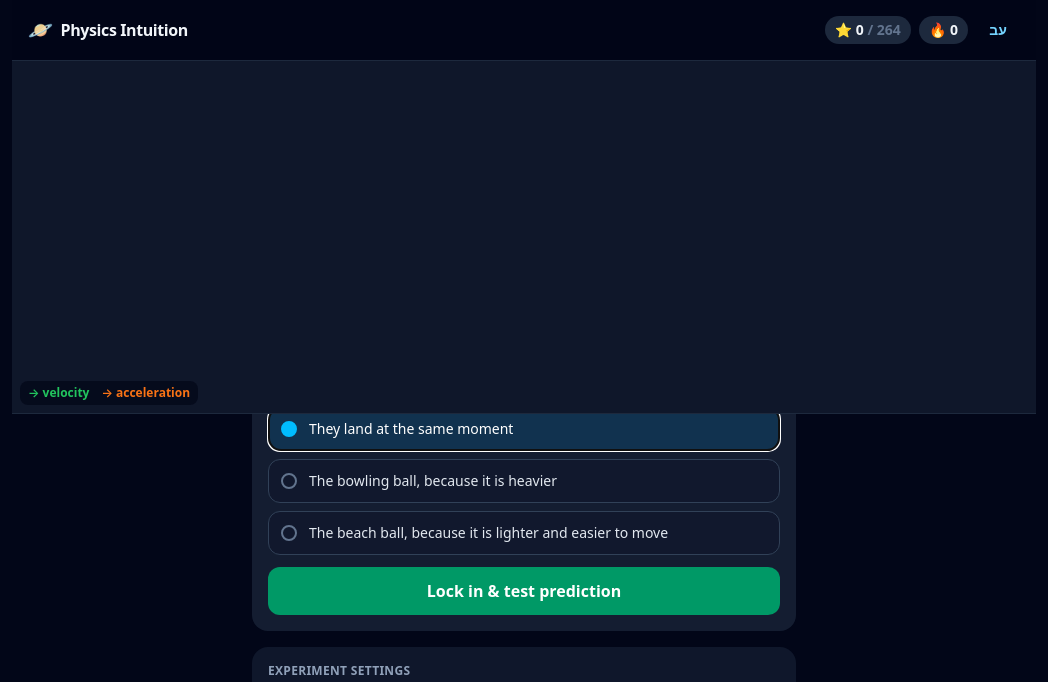
every Topic 1 question › heavy-vs-light: every part can be answered correctly through the UI
The image size is (1048, 682).
Earlier steps of the test are not shown.
(page scrolled)
Step 1. Click the button "Lock in & test prediction" → [524, 591], box [268,567,780,615]
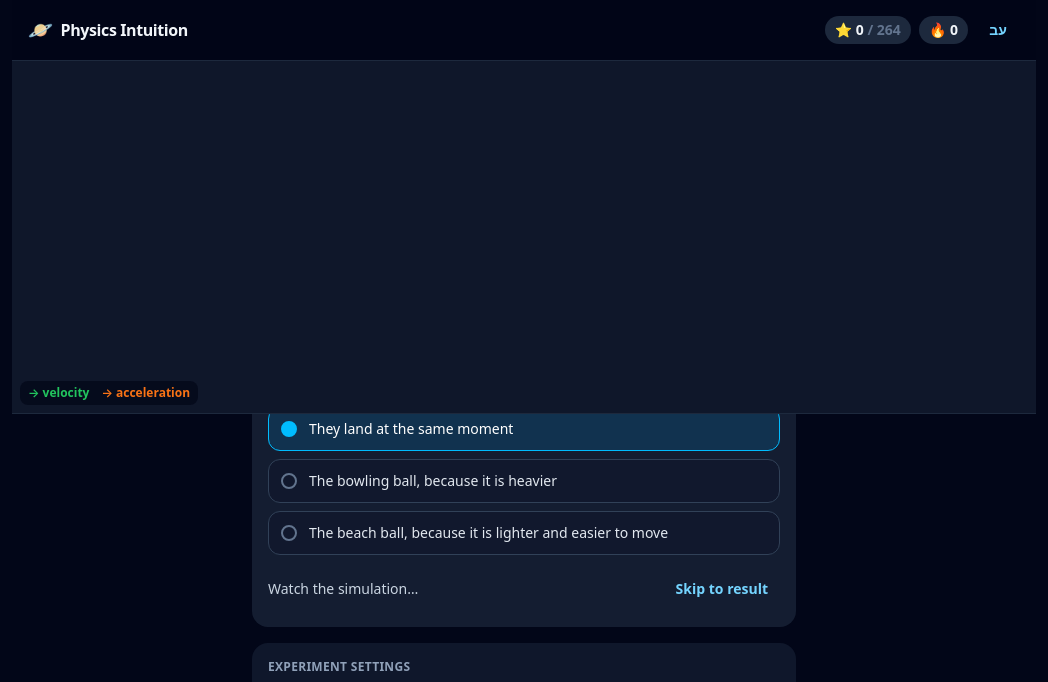
Step 2. Click the button "Skip to result" → [722, 589], box [664,567,780,611]
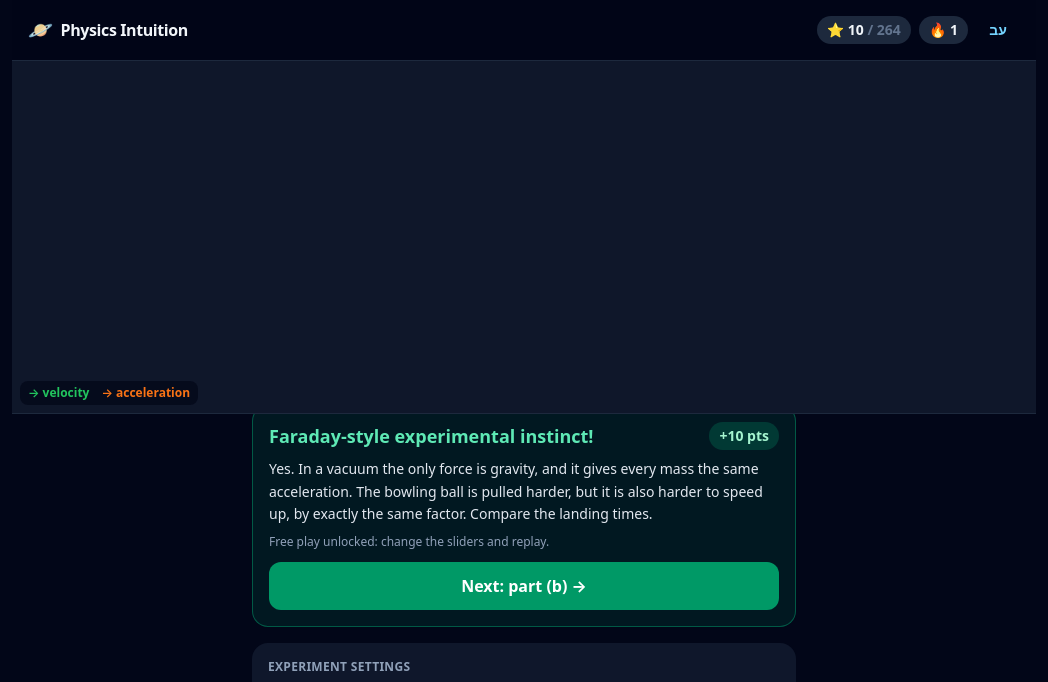
Check: the text "+10 pts" is shown, box [709,422,779,450]
Check: the text "Yes. In a vacuum the only force is gravity, and it gives every mass the same acceleration. The bowling ball is pulled ha" is shown, box [269,459,763,523]
Step 3. Click the button "Next: part (b) →" → [524, 586], box [269,562,779,610]
(page scrolled)
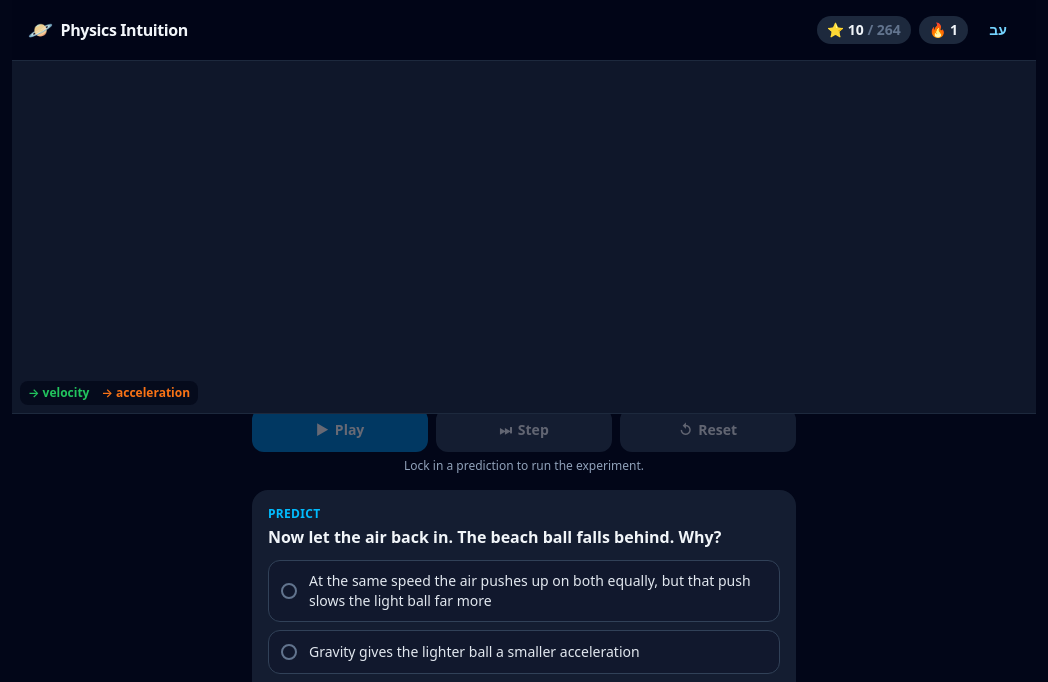
Check: the heading "Now let the air back in. The beach ball falls behind. Why?" is shown, box [268,526,780,548]
Step 4. Click the radio button named "At the same speed the air pushes up on both equally, but that push slows the light ball far more" → [524, 591], box [268,560,780,622]
(page scrolled)
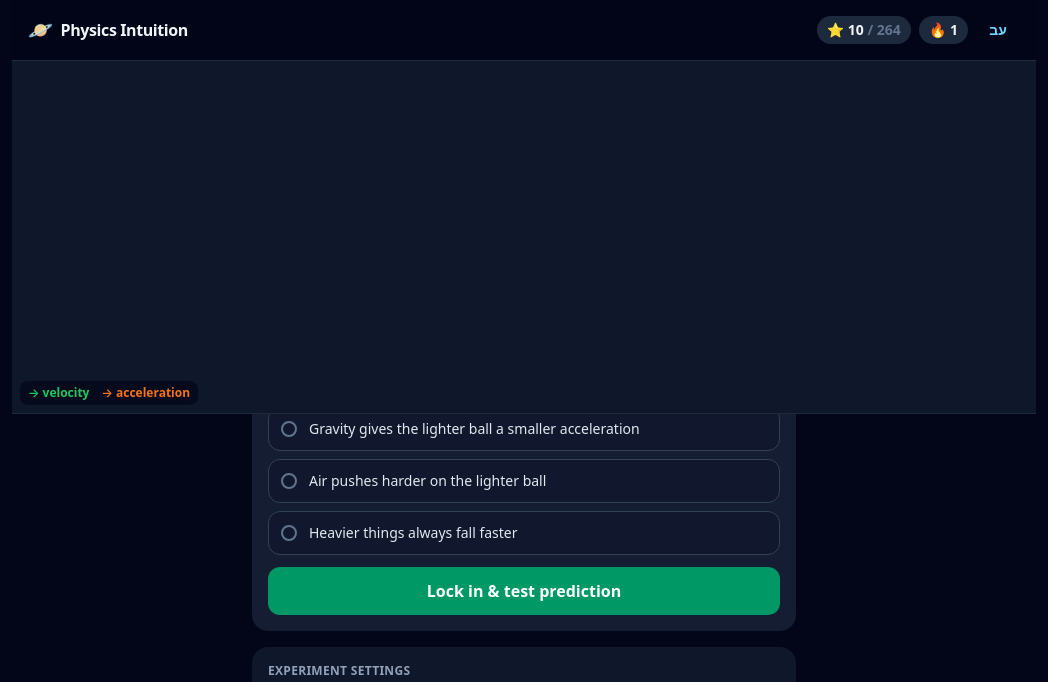
Step 5. Click the button "Lock in & test prediction" → [524, 591], box [268,567,780,615]
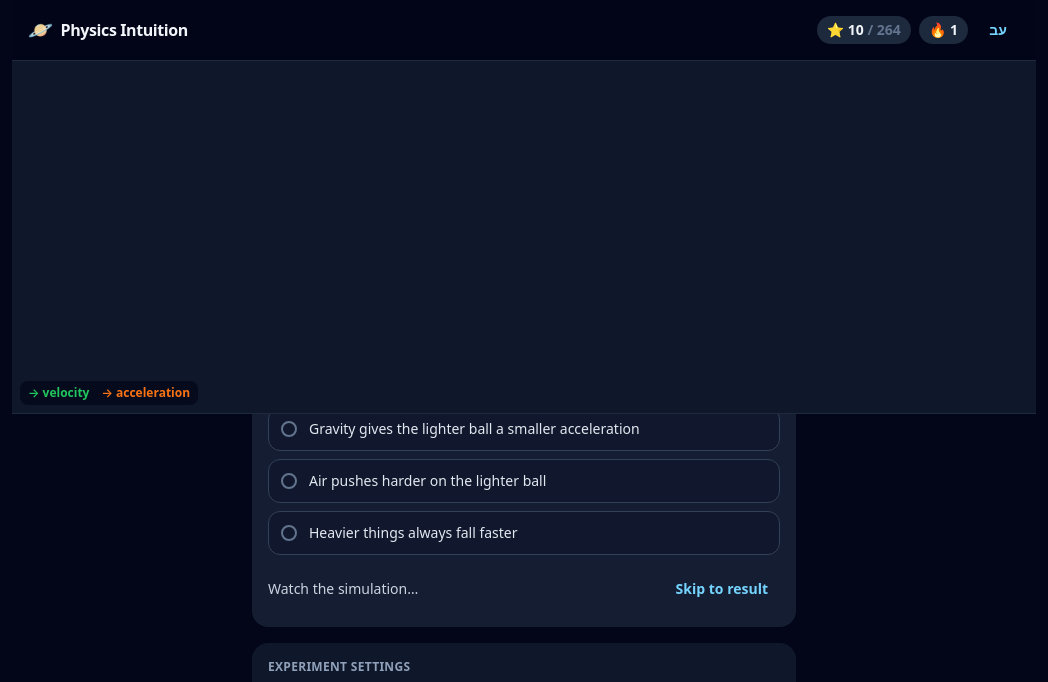
Step 6. Click the button "Skip to result" → [722, 589], box [664,567,780,611]
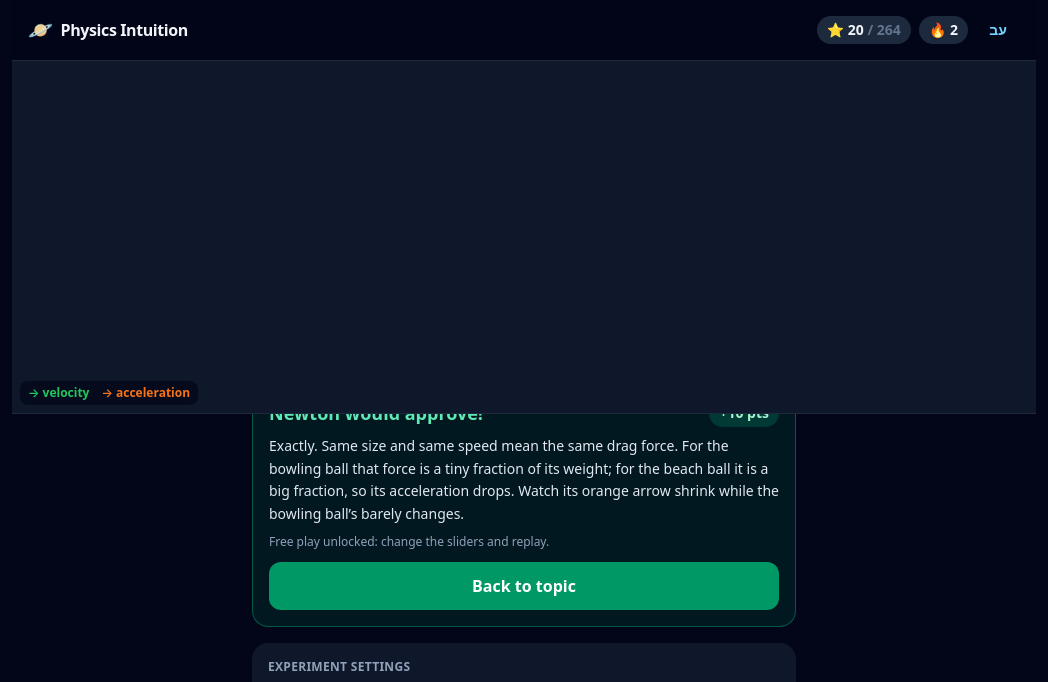
Check: the text "Exactly. Same size and same speed mean the same drag force. For the bowling ball that force is a tiny fraction of its we" is shown, box [269,436,779,523]
Check: the text with test id "total-score" reads "20", box [848,20,864,39]
